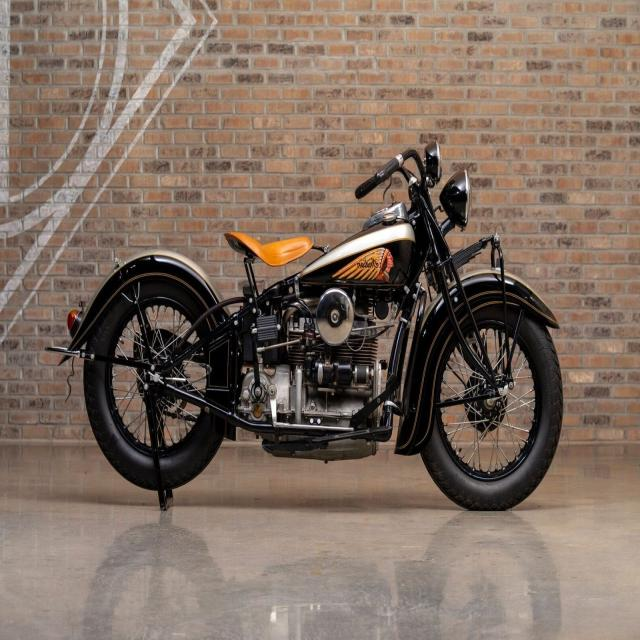motorcycle: (48, 142, 562, 510)
